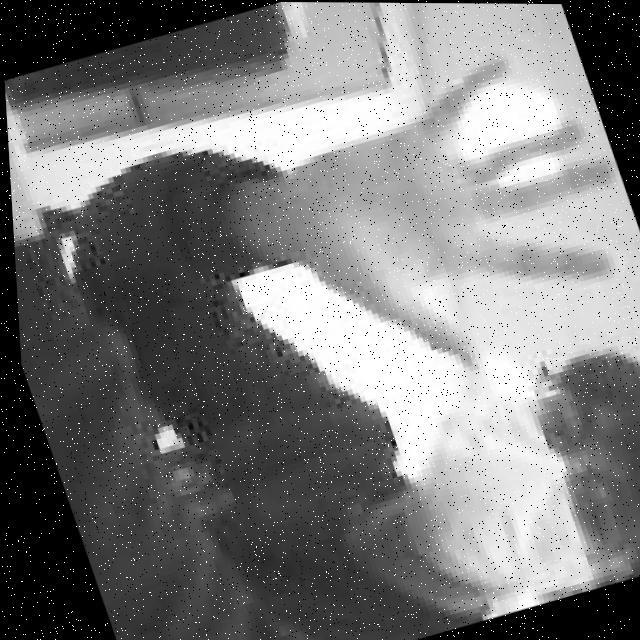no-gloves: (247, 27, 640, 404)
